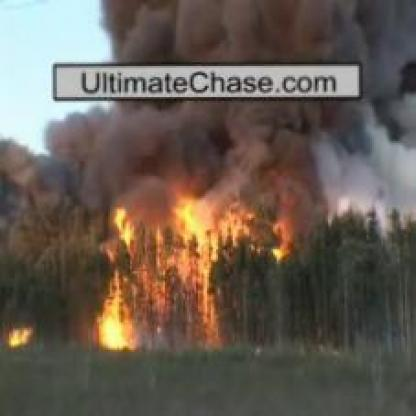fire: (91, 196, 292, 358), (7, 312, 40, 354)
smoke: (76, 4, 409, 190)
